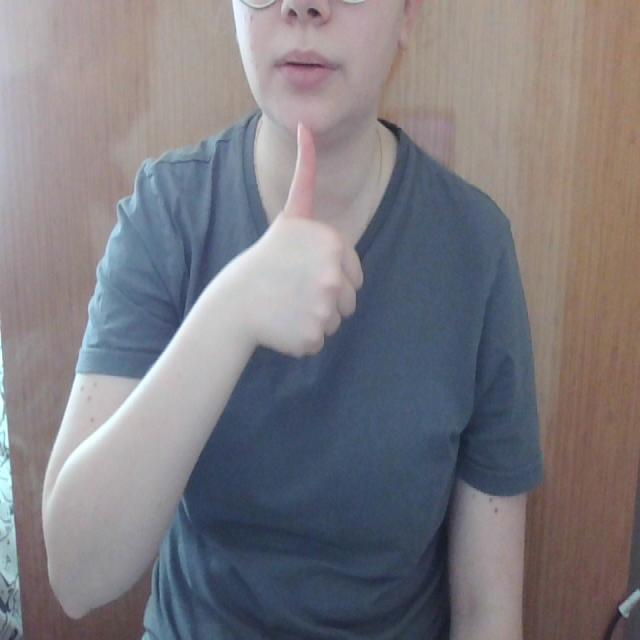Baba: (249, 34, 344, 202)
